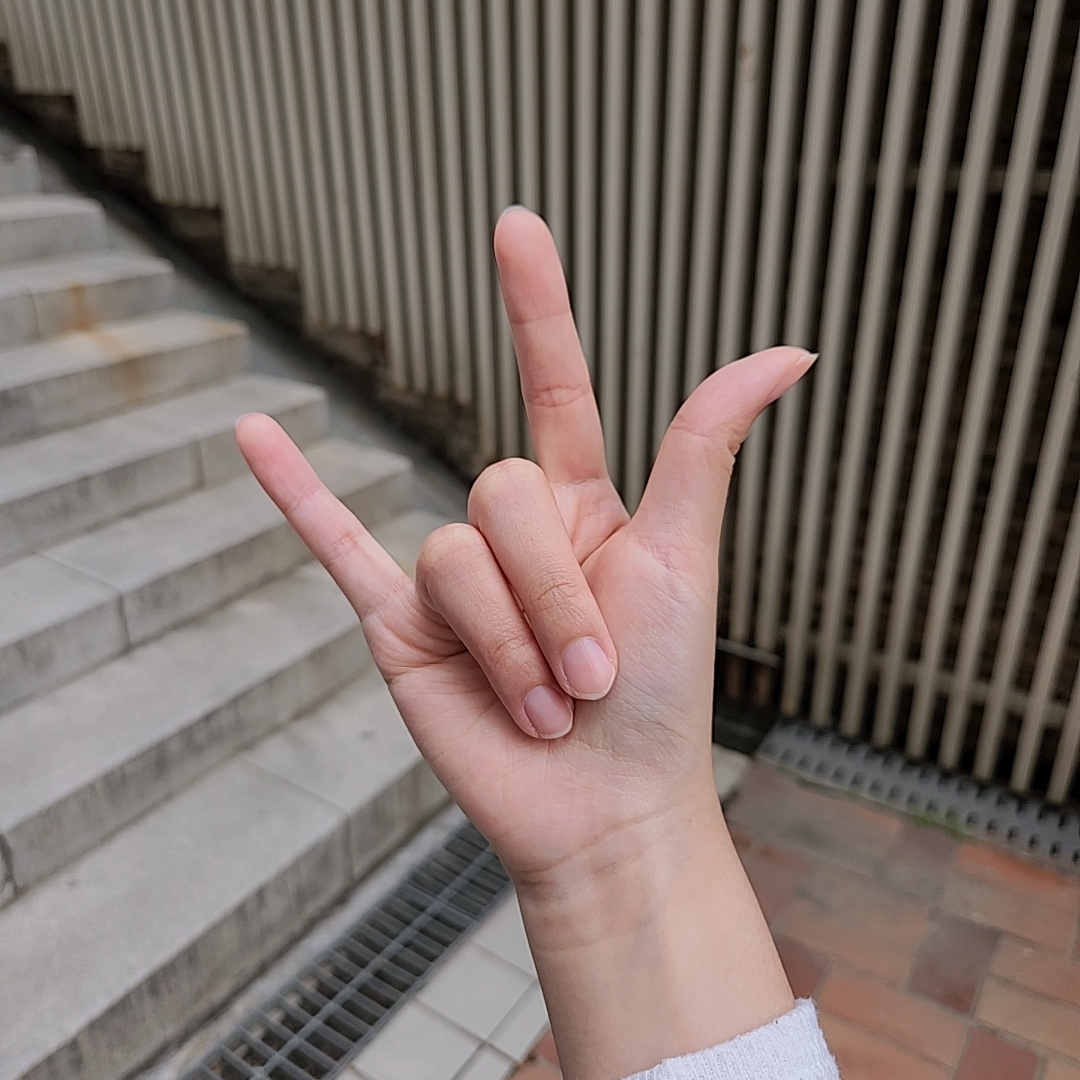iloveyou: (235, 207, 821, 848)
